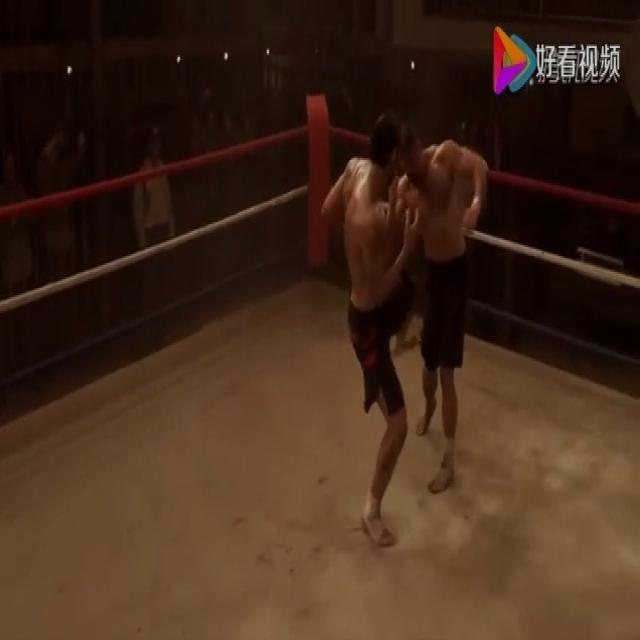fight: (310, 103, 500, 552)
